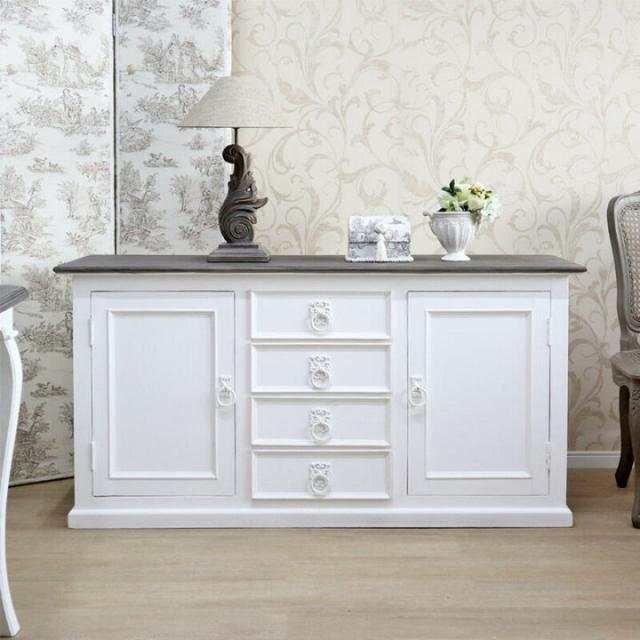white shelf: (49, 239, 594, 541)
